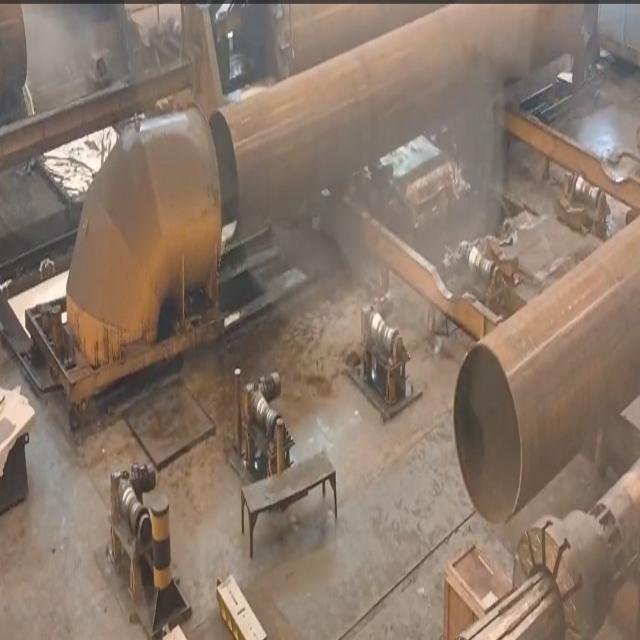warningzone: (321, 99, 638, 337)
